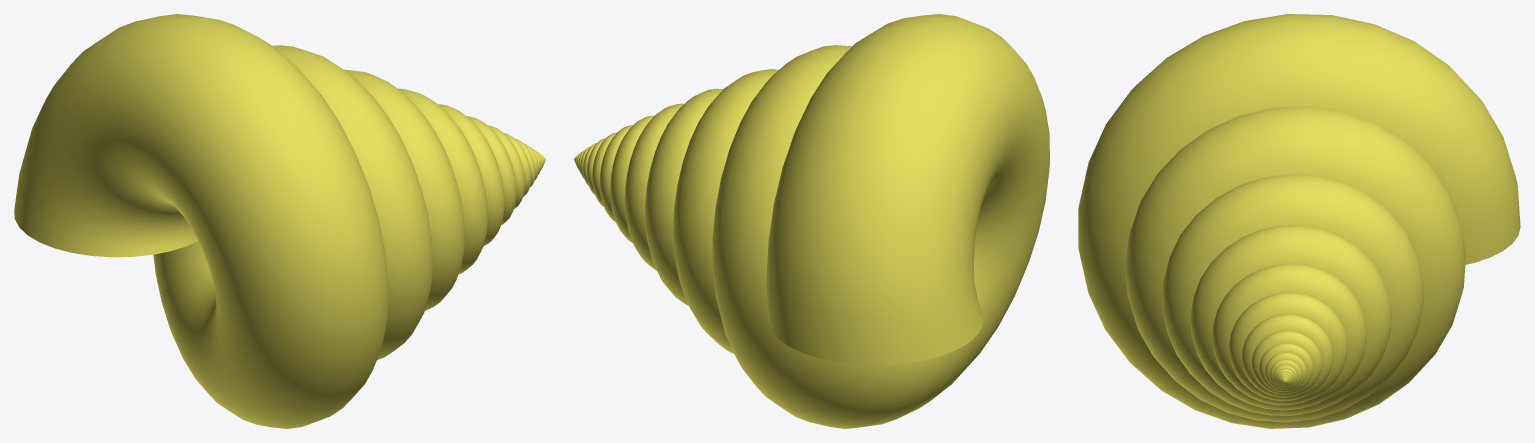
3 renders of one model, left to right at view 1: azimuth 30°, elevation 25°; view 2: azimuth 150°, elevation 25°; view 3: azimuth 270°, elevation 25°, orthographic. The views are drawn at different scales.
Visible parts, largest first — view 1: t30; view 2: t30; view 3: t30.
Part boxes in pixels (x1=…): t30: x1=14, y1=14, x2=545, y2=428; t30: x1=574, y1=14, x2=1049, y2=428; t30: x1=1078, y1=14, x2=1520, y2=428.
Bounding box in the file's own units: 500 × 409 × 435.
